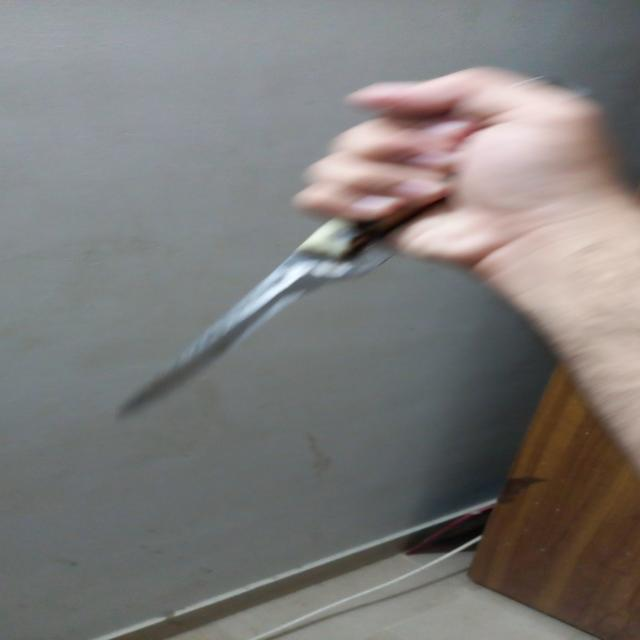knife: (90, 165, 440, 461)
